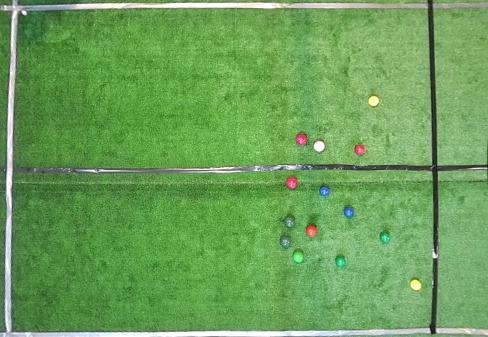blue: (319, 186, 330, 197), (344, 207, 354, 218)
green: (279, 236, 291, 247), (293, 251, 304, 263), (284, 217, 294, 228), (335, 256, 345, 267), (380, 232, 390, 243)
red: (286, 177, 298, 189), (296, 134, 308, 145), (314, 141, 325, 153), (306, 225, 317, 236), (354, 145, 365, 155)
vline: (427, 0, 487, 336), (0, 0, 20, 336)
white: (22, 10, 27, 15)
yellow: (410, 279, 422, 290), (368, 96, 379, 106)
